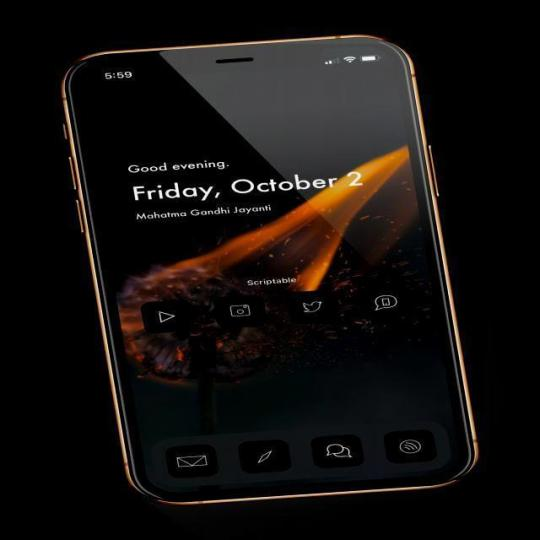phone: (43, 28, 482, 505)
